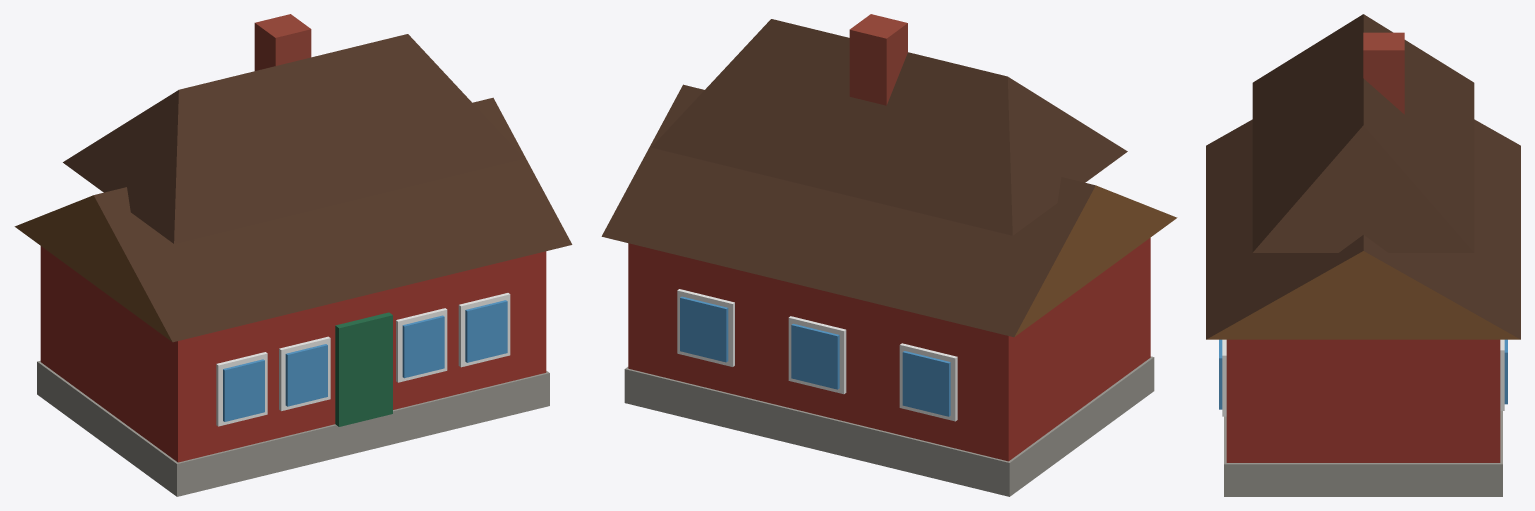
The model's file is 76_samogitian_wood_2.obj.
3 views of the same model, side by side, from view 1: azimuth 30°, elevation 25°; view 2: azimuth 150°, elevation 25°; view 3: azimuth 270°, elevation 25° (orthographic). The views are drawn at different scales.
Parts seen in each view (by area): view 1: 76_samogitian_wood_2; view 2: 76_samogitian_wood_2; view 3: 76_samogitian_wood_2.
Part boxes in pixels (<box>): 76_samogitian_wood_2: <box>14,14,572,496</box>; 76_samogitian_wood_2: <box>601,14,1177,496</box>; 76_samogitian_wood_2: <box>1206,14,1520,496</box>.
Size of the model in its own units: 1.78 by 1.56 by 1.22.
